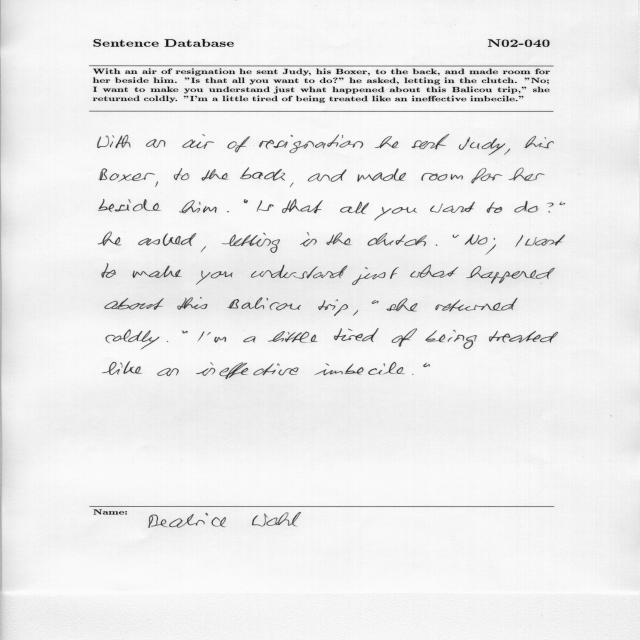word: (259, 135, 363, 154), (196, 362, 298, 379), (466, 266, 555, 283), (251, 265, 347, 279), (314, 362, 405, 375), (222, 233, 280, 253), (106, 329, 159, 350), (435, 298, 518, 311), (425, 330, 477, 349), (227, 298, 301, 311), (352, 267, 399, 285), (459, 137, 505, 155), (98, 199, 161, 212), (99, 168, 155, 182), (368, 233, 427, 246), (489, 331, 558, 342), (138, 233, 196, 246), (105, 298, 164, 310), (357, 168, 406, 182), (133, 265, 182, 278), (334, 328, 379, 342), (410, 265, 458, 278), (282, 199, 323, 214), (268, 331, 318, 343), (412, 134, 449, 150), (375, 207, 417, 221), (240, 168, 285, 181), (103, 361, 143, 375), (196, 270, 233, 285), (318, 299, 348, 316), (430, 202, 475, 213), (308, 169, 346, 182), (179, 200, 217, 213), (182, 134, 214, 149), (525, 234, 565, 246), (509, 168, 545, 181), (472, 168, 502, 183), (392, 329, 417, 347), (387, 298, 418, 312), (98, 135, 131, 148), (227, 136, 250, 153), (178, 297, 208, 310), (524, 136, 554, 148), (340, 202, 369, 214), (201, 169, 229, 181), (421, 173, 463, 181), (98, 232, 121, 246), (327, 233, 351, 246), (375, 136, 398, 148), (514, 201, 539, 212), (300, 232, 317, 247), (465, 234, 487, 245), (102, 263, 116, 278), (207, 332, 226, 343), (257, 200, 274, 212), (146, 139, 166, 148), (174, 168, 189, 180), (157, 368, 179, 376), (487, 202, 502, 213), (486, 238, 496, 254), (515, 235, 523, 247), (243, 336, 256, 343), (548, 202, 554, 213), (198, 331, 204, 341), (504, 149, 510, 155), (201, 247, 206, 253), (353, 310, 358, 316), (372, 300, 379, 304), (423, 363, 430, 367), (453, 234, 459, 238), (244, 199, 248, 204), (155, 181, 158, 187), (182, 331, 188, 334), (290, 183, 294, 187), (560, 202, 565, 205), (227, 211, 229, 213), (436, 244, 437, 246), (167, 341, 168, 342), (412, 374, 413, 375)
